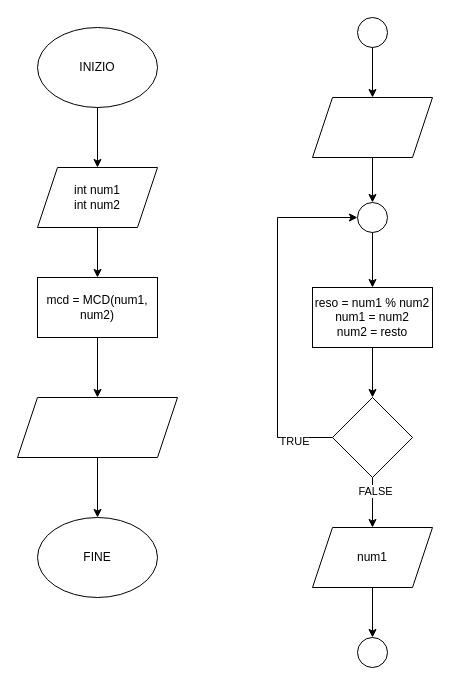
The diagram is 450 pixels wide and 685 high, and some of its shapes have lost their labels. The shapes that lost their labels are listed below. From the top down, each one's box as (x1, y1, x2, y2) in pixels, then its label:
(312, 96, 432, 158): num1, num2
(16, 396, 178, 458): scrivi num1, num2, mcd
(332, 396, 412, 478): num2 > 0
